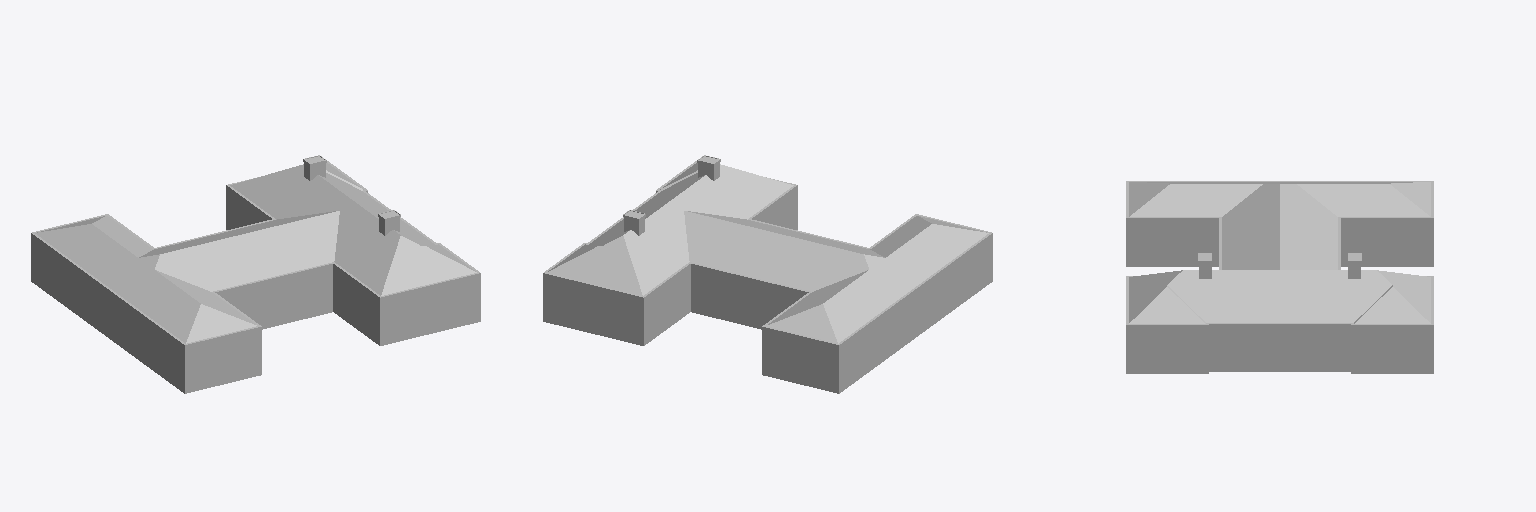
File: dey.obj
3 views of the same model, side by side, from view 1: azimuth 30°, elevation 25°; view 2: azimuth 150°, elevation 25°; view 3: azimuth 270°, elevation 25° (orthographic).
Visible parts, largest first — view 1: SketchUp_ID36, SketchUp_ID44, SketchUp_ID50, Dey_Chimney_ID5; view 2: SketchUp_ID36, SketchUp_ID44, SketchUp_ID50, Dey_Chimney_ID5; view 3: SketchUp_ID36, SketchUp_ID44, SketchUp_ID50.
Boxes of the visible parts, <box> form: SketchUp_ID36: <box>35,163,476,343</box>; SketchUp_ID44: <box>31,185,480,393</box>; SketchUp_ID50: <box>32,161,479,344</box>; Dey_Chimney_ID5: <box>304,156,399,235</box>; SketchUp_ID36: <box>547,163,988,343</box>; SketchUp_ID44: <box>543,185,992,393</box>; SketchUp_ID50: <box>544,161,991,344</box>; Dey_Chimney_ID5: <box>624,156,719,235</box>; SketchUp_ID36: <box>1129,182,1430,323</box>; SketchUp_ID44: <box>1126,218,1433,373</box>; SketchUp_ID50: <box>1126,181,1433,324</box>.
Bounding box in the file's own units: 5.88 × 1.73 × 5.29.